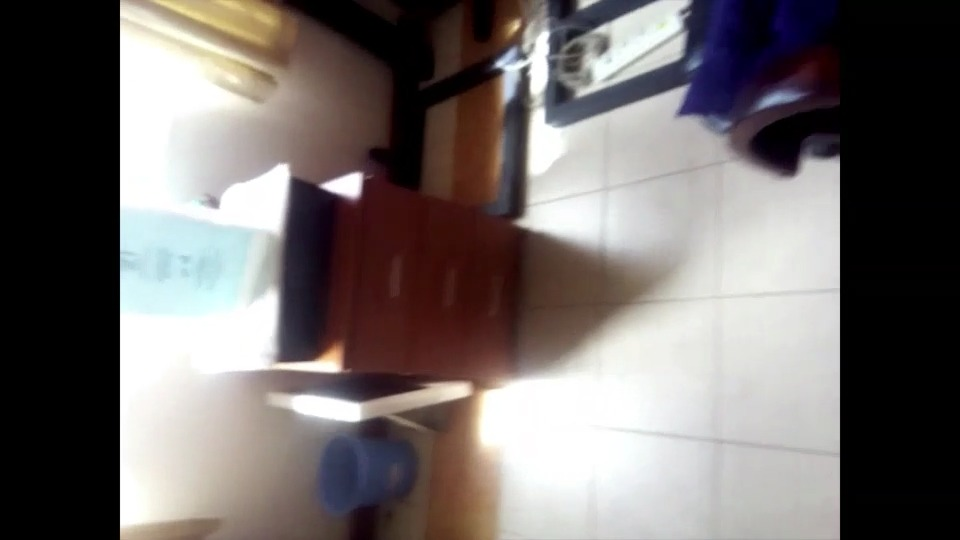wheat_flour_blue_label: (120, 198, 271, 310)
